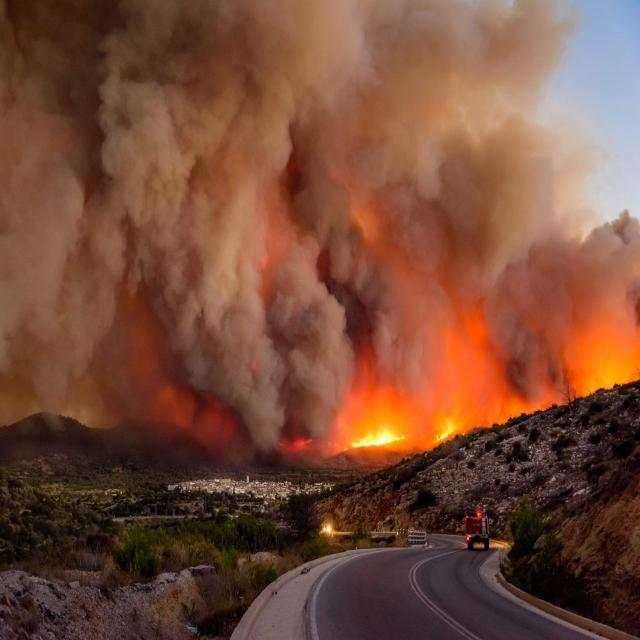Fire: (328, 392, 476, 454)
Smoke: (41, 9, 640, 428)
